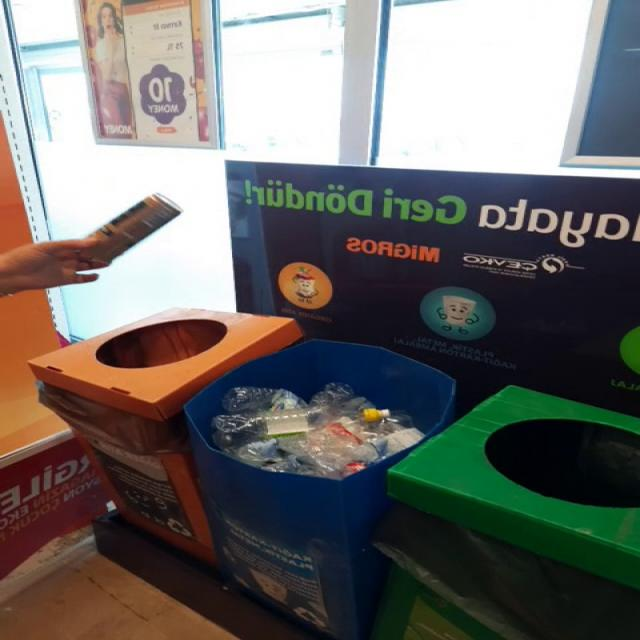bin: (32, 309, 639, 640)
metal: (84, 194, 180, 264)
